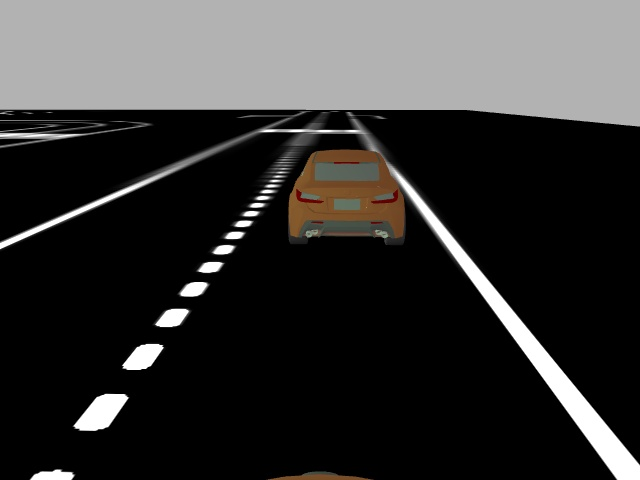obstacle_car: (287, 147, 408, 247)
